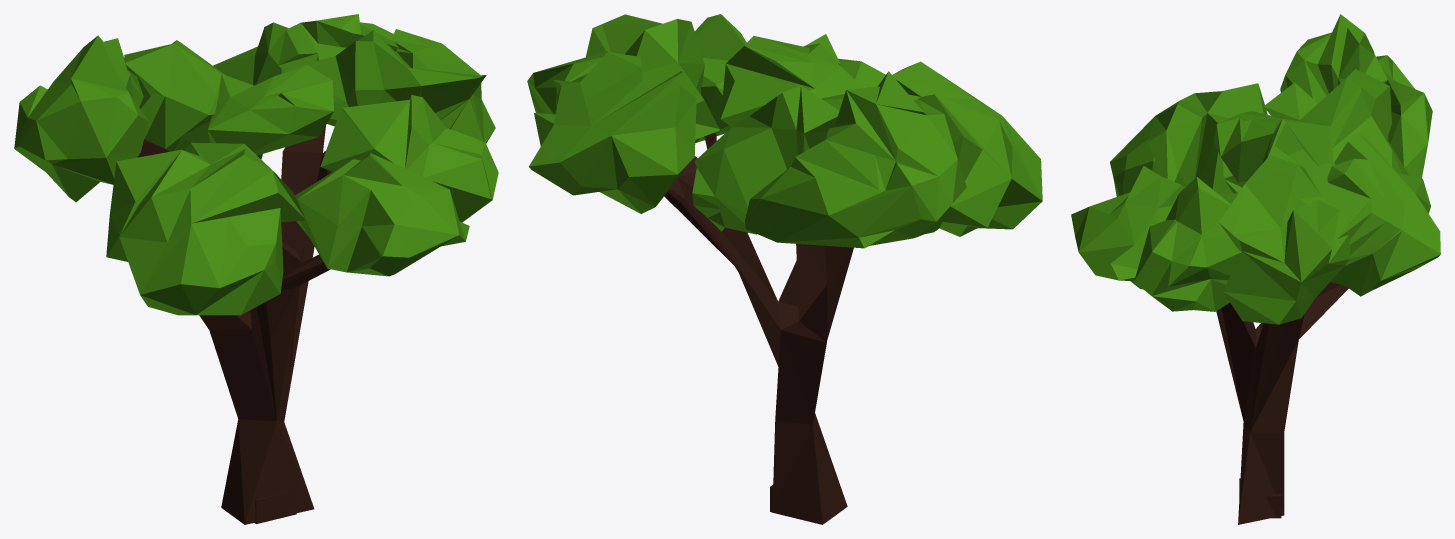
3 renders of one model, left to right at view 1: azimuth 30°, elevation 25°; view 2: azimuth 150°, elevation 25°; view 3: azimuth 270°, elevation 25°, orthographic. The views are drawn at different scales.
Visible parts, largest first — view 1: tree, base; view 2: tree; view 3: tree.
Boxes of the visible parts, x1,y1,x2,y2 form: tree: (14, 14, 498, 524); base: (254, 490, 296, 523); tree: (527, 14, 1042, 524); tree: (1071, 14, 1440, 524).
Size of the model in its own units: 1.91 by 1.99 by 1.52.
